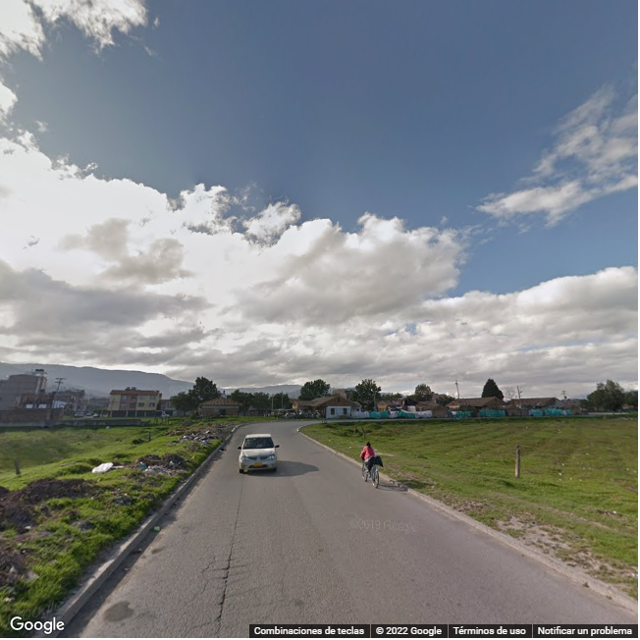D00: (198, 550, 215, 598)
D10: (221, 581, 282, 603)
